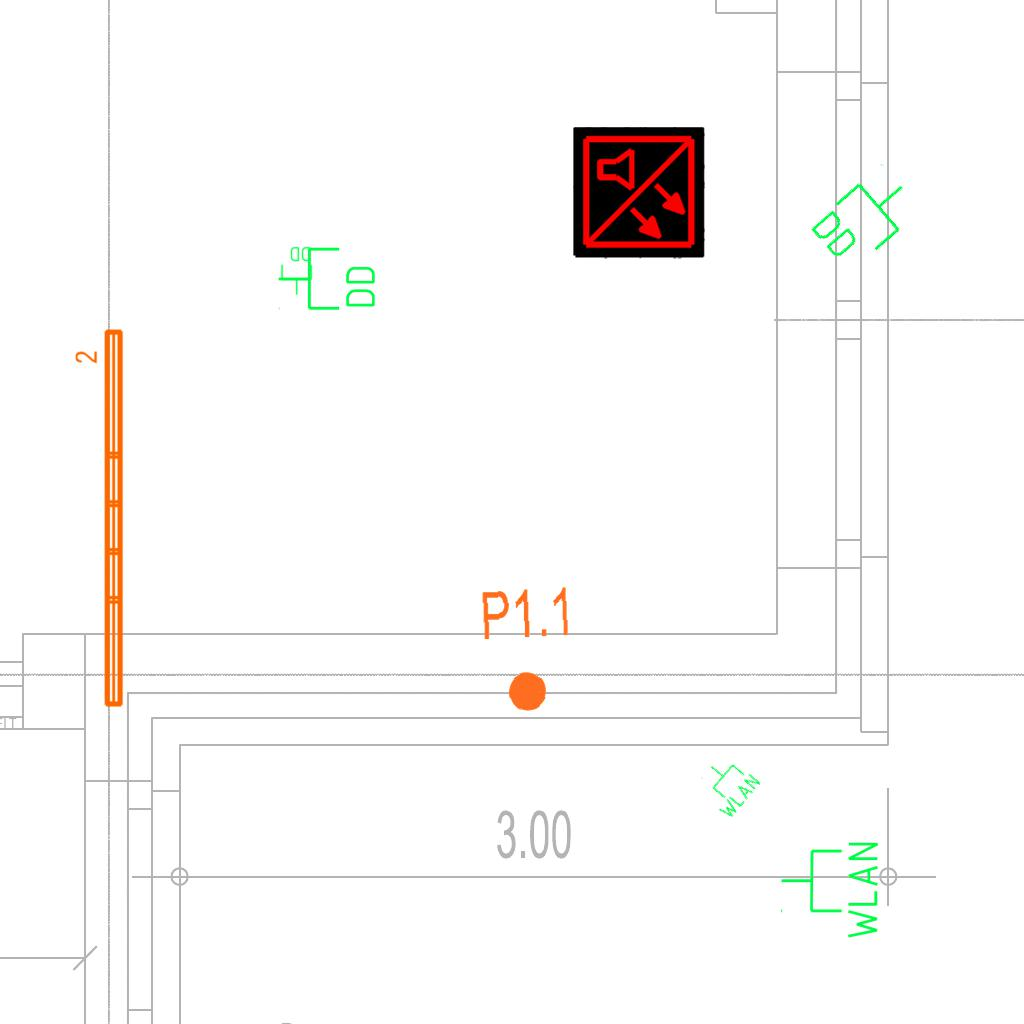Ambulanz_Pendelleuchte_LED: (73, 325, 129, 712)
Datenanschluss_zweifach: (802, 158, 927, 279), (276, 245, 379, 314), (280, 245, 314, 296)
Downlight_LED_Einbauleuchten_Flur: (478, 583, 579, 717)
OKW_Multisensormelder_(Kombination_optischer_Rauch-Kahlenmonoxid_Waerme-Melder): (573, 127, 705, 259)
WLAN: (778, 838, 882, 943), (690, 749, 764, 823)
